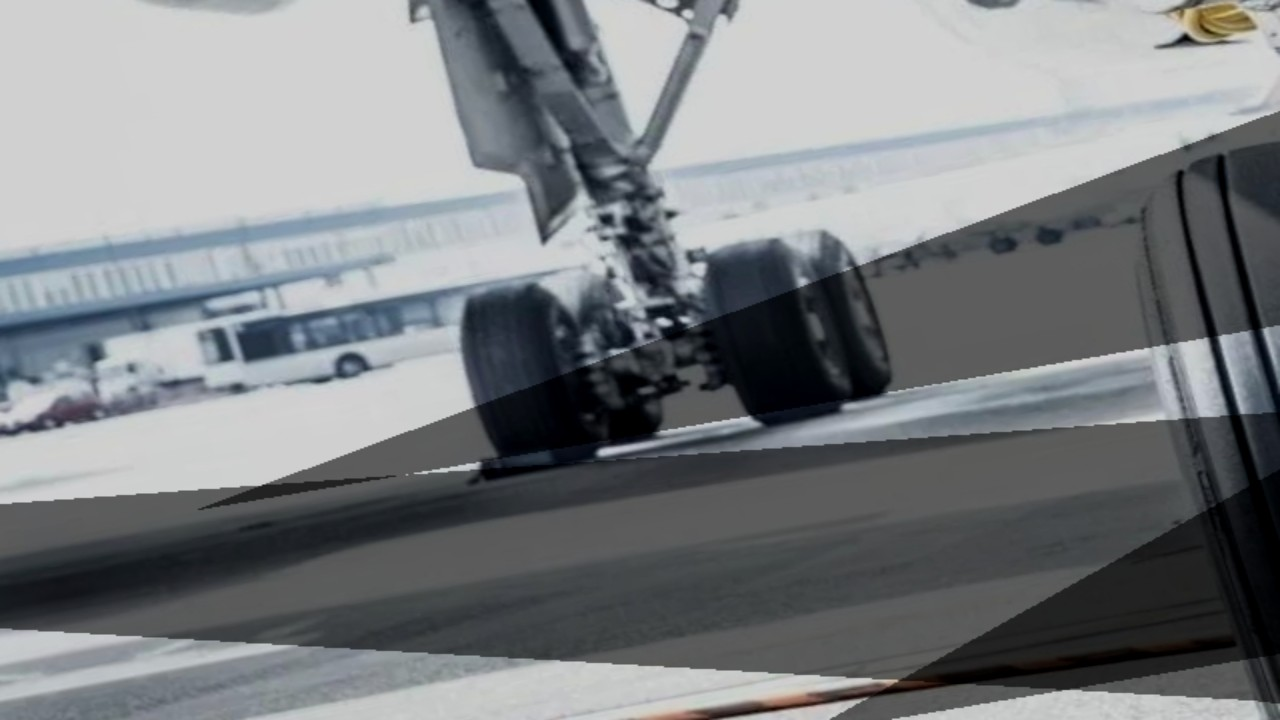wheel: (1094, 114, 1280, 720), (437, 266, 649, 476), (684, 229, 857, 430), (779, 223, 908, 404), (548, 281, 684, 449)
